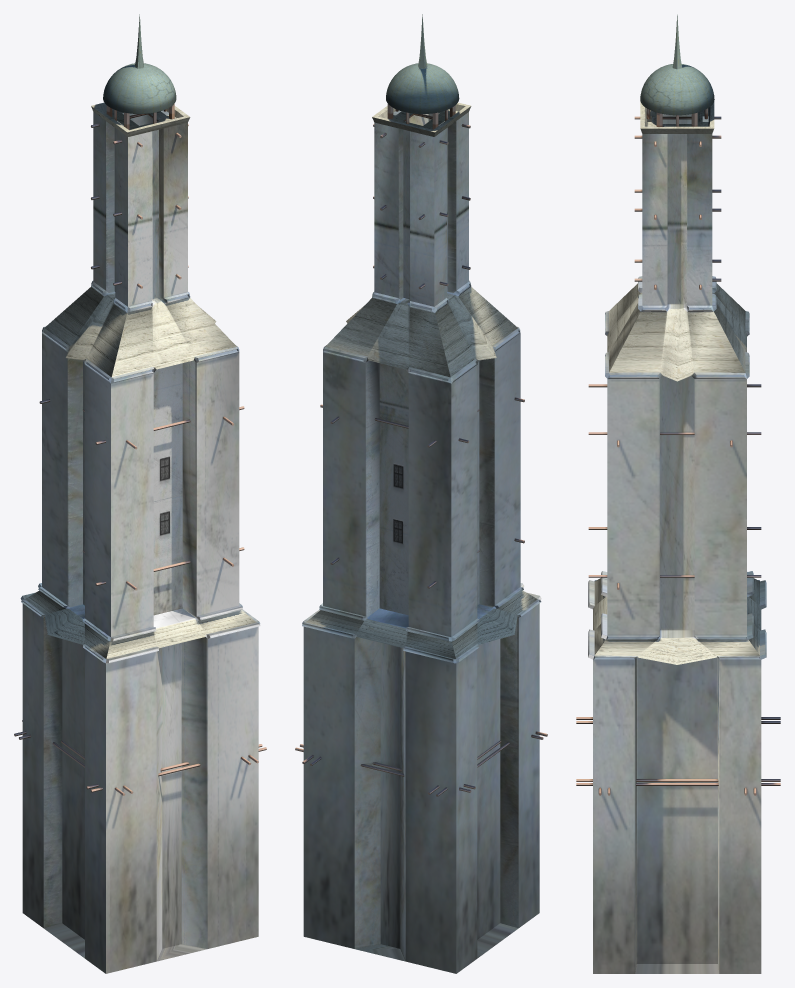
The model's file is castel maria.fbx.
3 renders of one model, left to right at view 1: azimuth 30°, elevation 25°; view 2: azimuth 150°, elevation 25°; view 3: azimuth 270°, elevation 25°, orthographic.
Parts seen in each view (by area): view 1: casta maria; view 2: casta maria; view 3: casta maria.
Boxes of the visible parts, bbox=[...] form: casta maria: bbox=[14, 14, 266, 973]; casta maria: bbox=[295, 14, 547, 973]; casta maria: bbox=[576, 14, 780, 973].
Bounding box in the file's own units: 138 × 654 × 131.
Materials: 1 (1 with a texture image).
